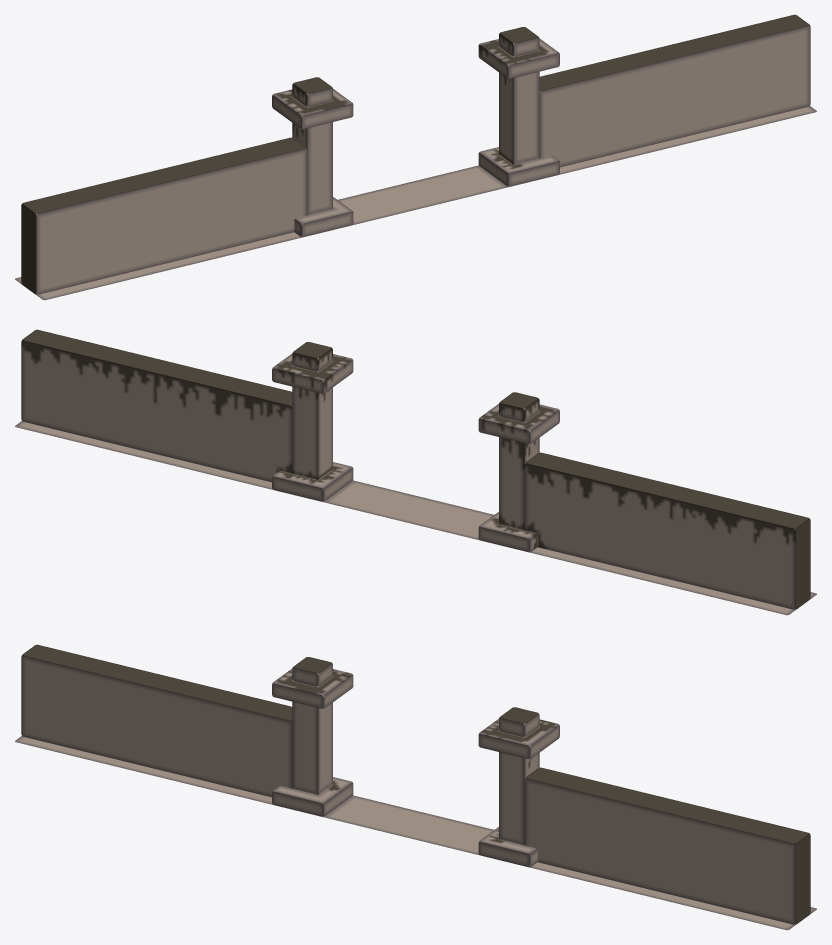
File: ER_LevelGate1.fbx
3 renders of one model, top to bottom at view 1: azimuth 30°, elevation 25°; view 2: azimuth 150°, elevation 25°; view 3: azimuth 330°, elevation 25°, orthographic.
Visible parts, largest first — view 1: GrassGate; view 2: GrassGate; view 3: GrassGate.
Part boxes in pixels (bbox=[...]): GrassGate: bbox=[15, 14, 816, 300]; GrassGate: bbox=[15, 329, 816, 615]; GrassGate: bbox=[15, 644, 816, 930].
Size of the model in its own units: 1500 by 250 by 100.
1 material, 1 textured.
